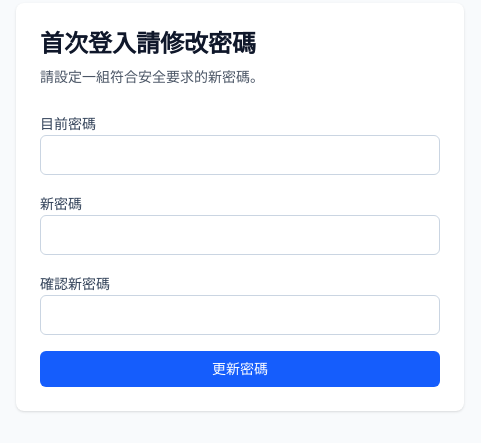
Test: ChangePasswordPage › shows validation error when confirm password does not match
Step 1. Type "TempPass123!" into the password field labelled "目前密碼" → (240, 155), box [40, 135, 440, 175]
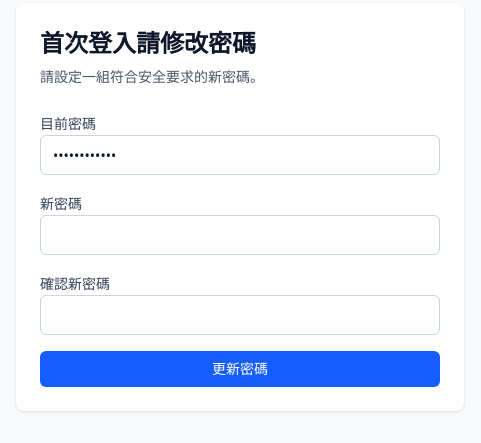
Step 2. Type "NewPass123!@#" into the password field labelled "新密碼" → (240, 235), box [40, 215, 440, 255]
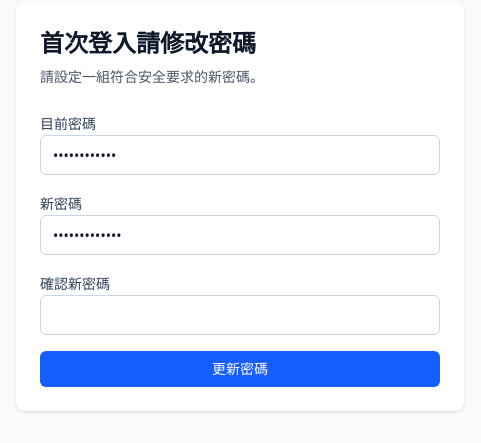
Step 3. Type "Mismatch123!@#" into the password field labelled "確認新密碼" → (240, 315), box [40, 295, 440, 335]
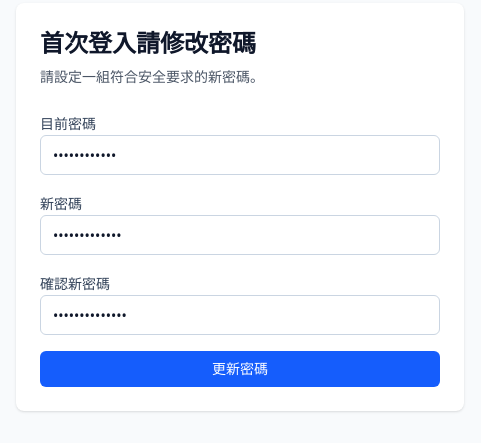
Step 4. Click the button "更新密碼" → (240, 369), box [40, 351, 440, 387]
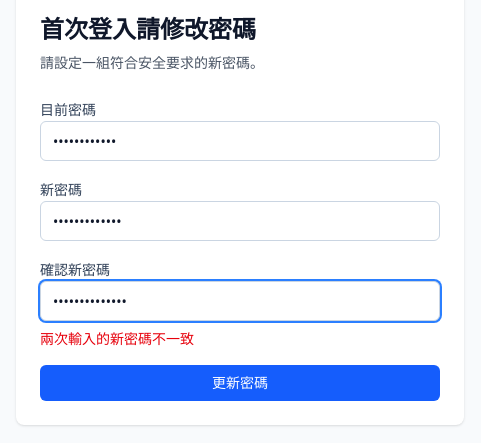
expect the text "兩次輸入的新密碼不一致" is shown: met, box [40, 329, 194, 348]
